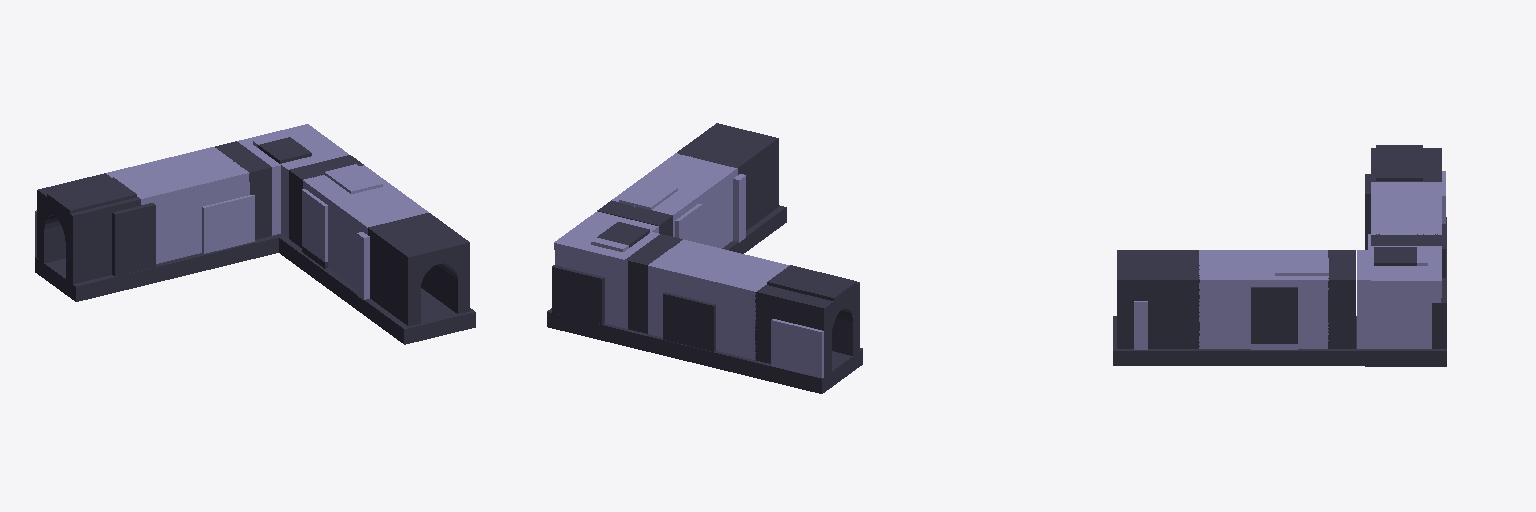
Rendered from RightHallway.obj.
The picture shows the model from 3 angles: view 1: azimuth 30°, elevation 25°; view 2: azimuth 150°, elevation 25°; view 3: azimuth 270°, elevation 25°; orthographic projection.
Visible parts, largest first — view 1: block_gate%, block; view 2: block_gate%, block; view 3: block_gate%, block.
Boxes of the visible parts, x1=… form: block_gate%: x1=37, y1=141, x2=469, y2=326; block: x1=35, y1=124, x2=475, y2=344; block_gate%: x1=597, y1=123, x2=859, y2=376; block: x1=547, y1=174, x2=862, y2=393; block_gate%: x1=1117, y1=148, x2=1441, y2=348; block: x1=1113, y1=145, x2=1446, y2=366.
Size of the model in its own units: 6.15 by 1.87 by 6.47.